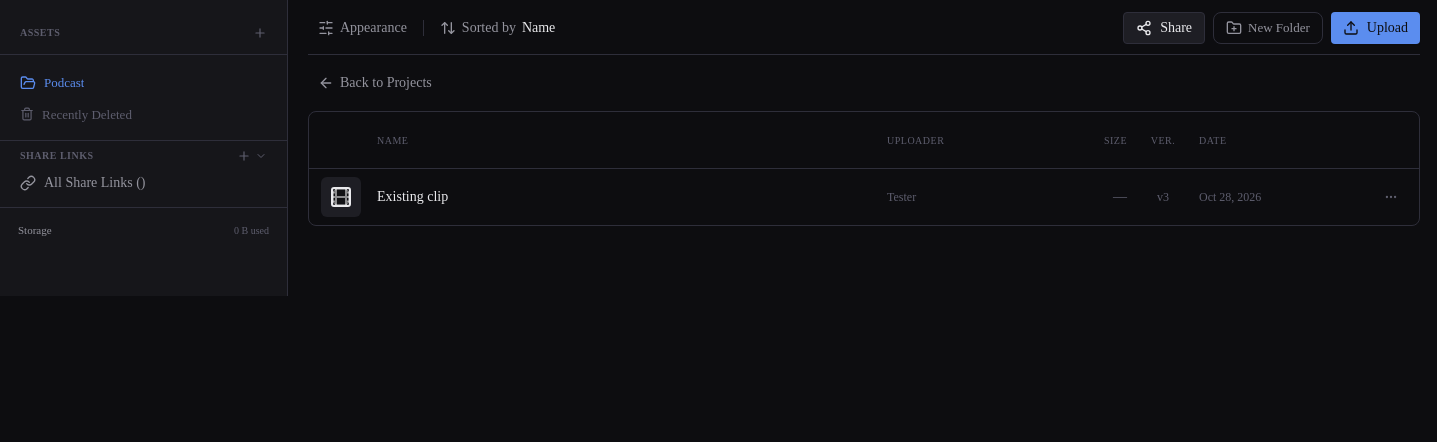
Test case: §232 — Share and Download are in the list row ··· menu › an editor gets the same, because canShare and canEditAssets both include editor
Click the button without text next to "Oct 28, 2026". click: click(1391, 197)
box: [1379,185,1403,209]
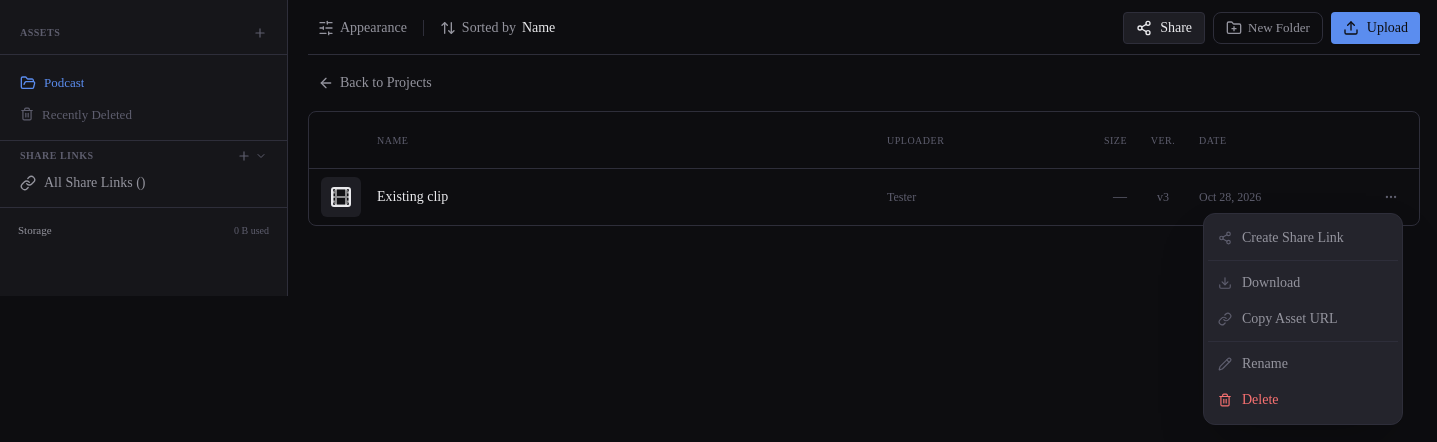
expect the menu item "Create Share Link" is shown: met, box [1218,230,1344,245]
expect the menu item "Download" is shown: met, box [1218,275,1300,290]
expect the menu item "Rename" is shown: met, box [1218,356,1288,371]
